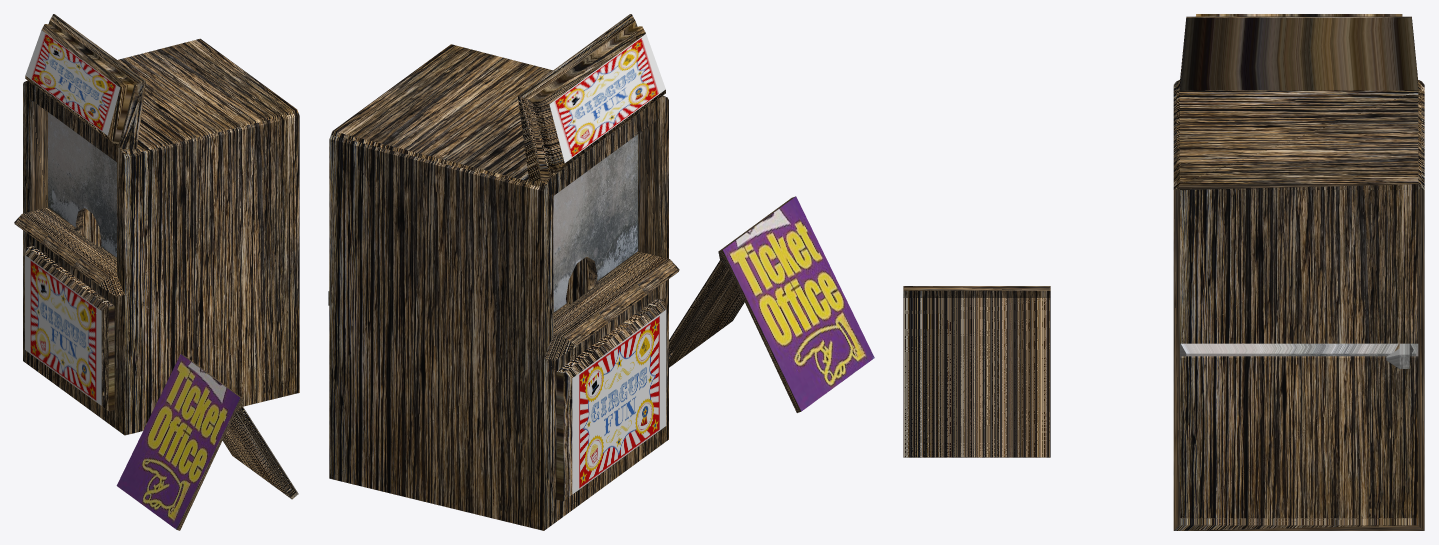
File: ticket booth.FBX
3 renders of one model, left to right at view 1: azimuth 30°, elevation 25°; view 2: azimuth 150°, elevation 25°; view 3: azimuth 270°, elevation 25°, orthographic. The views are drawn at different scales.
Parts seen in each view (by area): view 1: Box001, Box002; view 2: Box001, Box002; view 3: Box001, Box002.
Part boxes in pixels (box(x1,y1,x2,y2)): Box001: box(14, 14, 299, 435); Box002: box(116, 354, 298, 530); Box001: box(328, 14, 679, 530); Box002: box(669, 196, 874, 412); Box001: box(1173, 14, 1424, 530); Box002: box(903, 286, 1050, 457).
Size of the model in its own units: 53.57 by 73.85 by 81.76.
5 materials, 5 textured.
